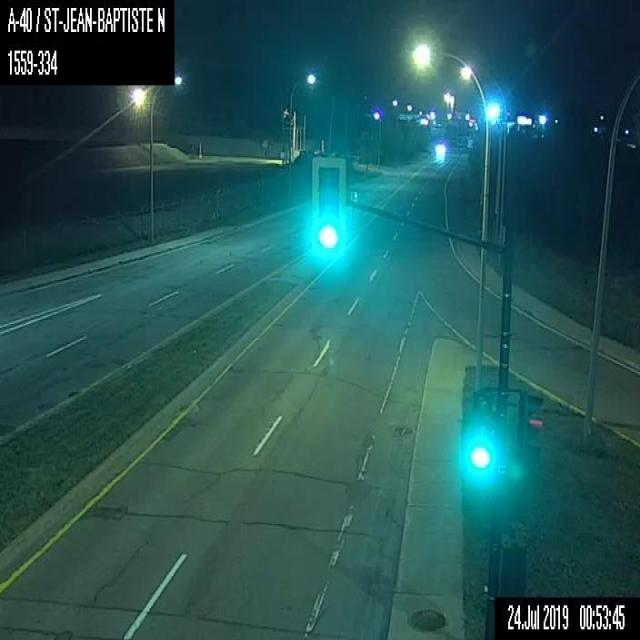vehicle: (433, 141, 445, 152)
